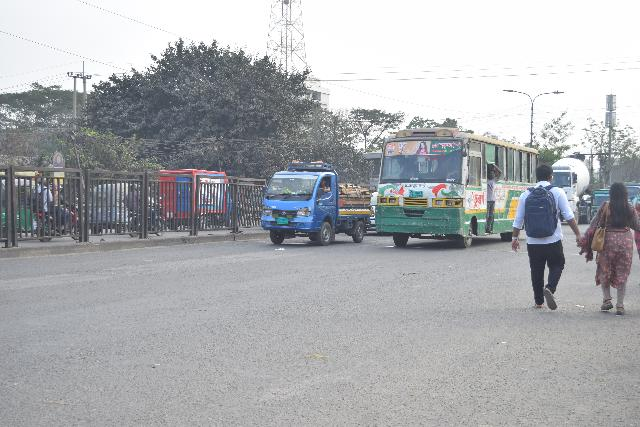bus: (376, 128, 533, 254)
truck: (253, 164, 372, 250), (157, 165, 244, 235), (546, 149, 592, 220)
